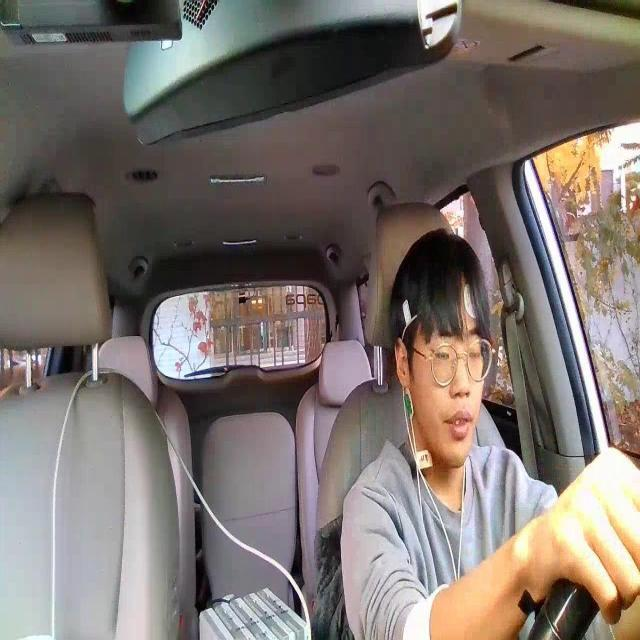Eye-Close: (466, 344, 486, 364), (435, 347, 454, 367)
